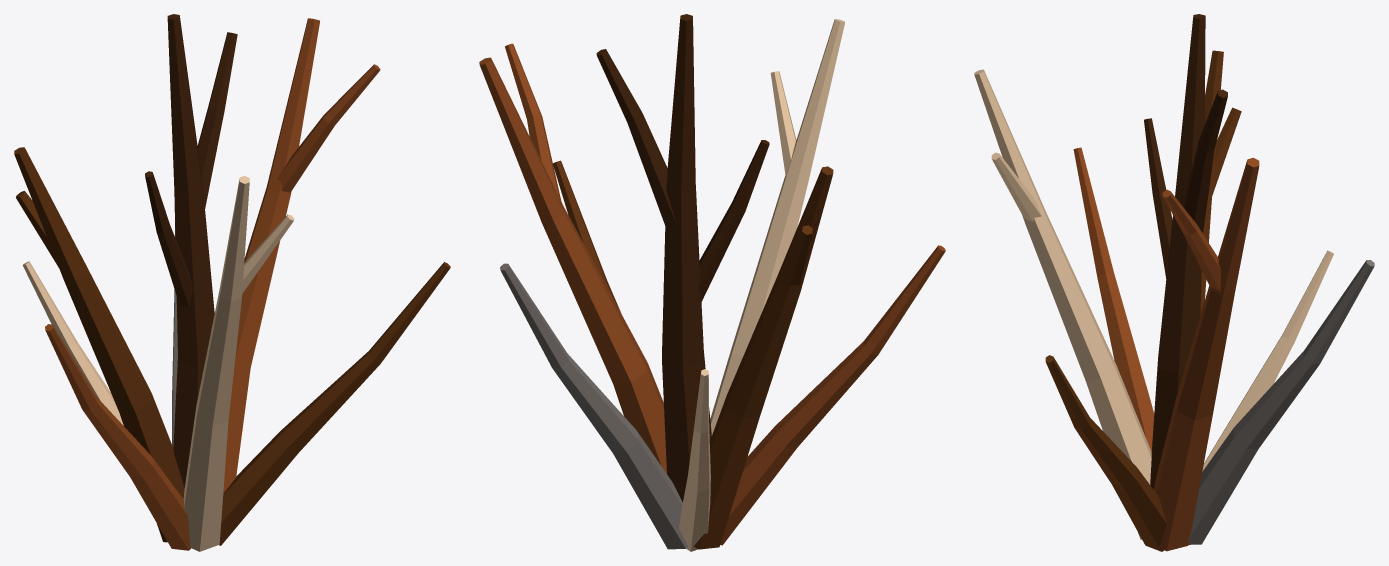
The model's file is branches_bush.fbx.
The picture shows the model from 3 angles, left to right: view 1: azimuth 30°, elevation 25°; view 2: azimuth 150°, elevation 25°; view 3: azimuth 270°, elevation 25°; orthographic projection. The views are drawn at different scales.
Visible parts, largest first — view 1: Branch_Center, Branch_Back_Tall, Branch_Right_Main, Branch_Left_Main, Branch_Right_Low, Branch_Left_Low, Branch_Front_Small, Branch_Front_Low; view 2: Branch_Center, Branch_Right_Main, Branch_Left_Main, Branch_Back_Tall, Branch_Front_Low, Branch_Left_Low, Branch_Front_Small, Branch_Right_Low; view 3: Branch_Right_Main, Branch_Center, Branch_Back_Tall, Branch_Front_Low, Branch_Right_Low, Branch_Left_Low, Branch_Front_Small, Branch_Left_Main.
Boxes of the visible parts, <box> form: Branch_Center: <box>145,14,237,487</box>; Branch_Back_Tall: <box>183,176,294,551</box>; Branch_Right_Main: <box>223,18,380,493</box>; Branch_Left_Main: <box>14,147,184,542</box>; Branch_Right_Low: <box>219,262,450,545</box>; Branch_Left_Low: <box>45,324,191,550</box>; Branch_Front_Small: <box>22,261,123,425</box>; Branch_Front_Low: <box>172,227,177,447</box>; Branch_Center: <box>596,14,769,502</box>; Branch_Right_Main: <box>479,43,666,473</box>; Branch_Left_Main: <box>694,166,833,549</box>; Branch_Back_Tall: <box>710,19,844,435</box>; Branch_Front_Low: <box>500,263,688,549</box>; Branch_Left_Low: <box>720,245,945,545</box>; Branch_Front_Small: <box>679,369,710,551</box>; Branch_Right_Low: <box>553,160,621,313</box>; Branch_Right_Main: <box>1153,157,1259,551</box>; Branch_Center: <box>1144,14,1227,489</box>; Branch_Back_Tall: <box>974,69,1151,539</box>; Branch_Front_Low: <box>1187,260,1374,544</box>; Branch_Right_Low: <box>1045,355,1166,551</box>; Branch_Left_Low: <box>1073,147,1154,451</box>; Branch_Front_Small: <box>1202,250,1333,471</box>; Branch_Left_Main: <box>1200,50,1241,314</box>.
Size of the model in its own units: 1.94 by 2.45 by 1.71.
